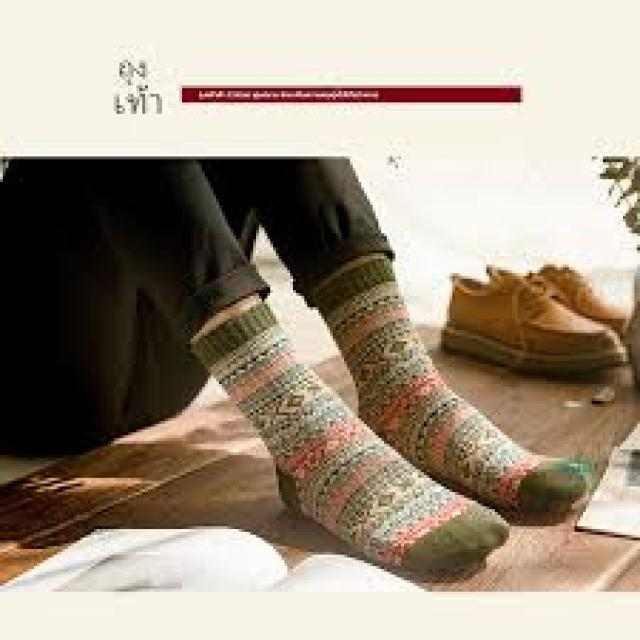sock: (188, 293, 509, 580), (304, 251, 592, 524)
